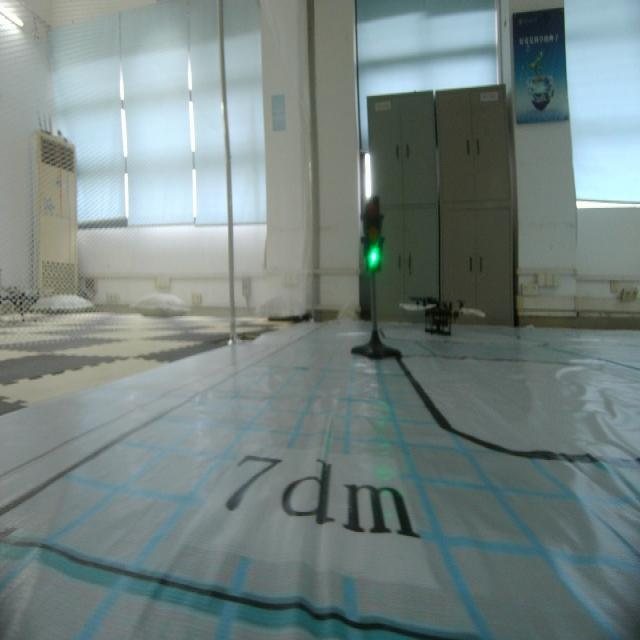green: (360, 198, 386, 272)
